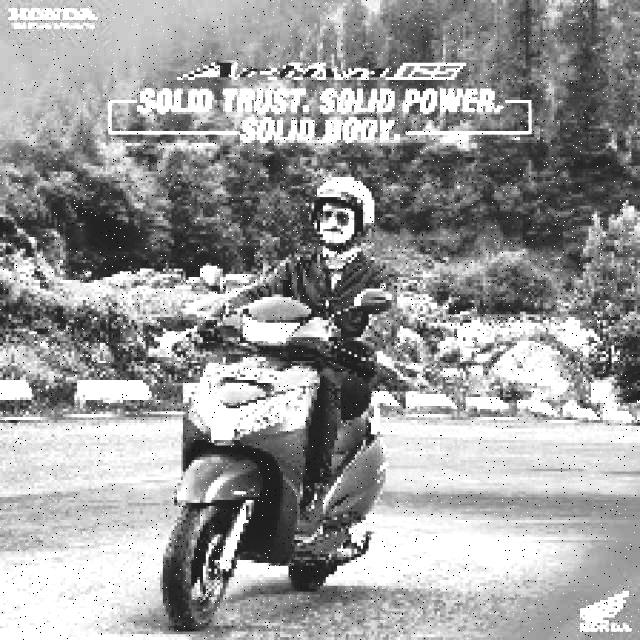Bike: (159, 275, 391, 631)
